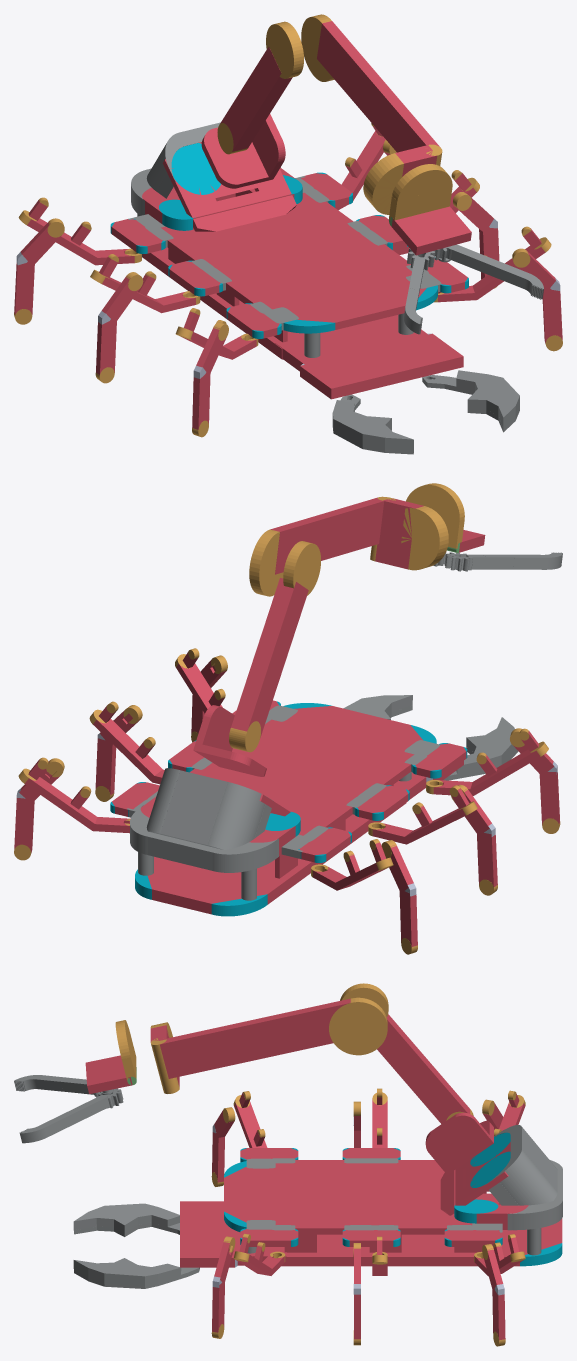
File: talos.glb
3 renders of one model, top to bottom at view 1: azimuth 30°, elevation 25°; view 2: azimuth 150°, elevation 25°; view 3: azimuth 270°, elevation 25°, orthographic. The views are drawn at different scales.
Visible parts, largest first — view 1: Mesh_Mesh_head_geo.001_lambert2SG.001; view 2: Mesh_Mesh_head_geo.001_lambert2SG.001; view 3: Mesh_Mesh_head_geo.001_lambert2SG.001.
Part boxes in pixels (left/top/right/bottom): Mesh_Mesh_head_geo.001_lambert2SG.001: left=14, top=14, right=562, bottom=454; Mesh_Mesh_head_geo.001_lambert2SG.001: left=14, top=483, right=562, bottom=954; Mesh_Mesh_head_geo.001_lambert2SG.001: left=14, top=983, right=562, bottom=1346.
Size of the model in its own units: 0.2625 by 0.192 by 0.3501.
